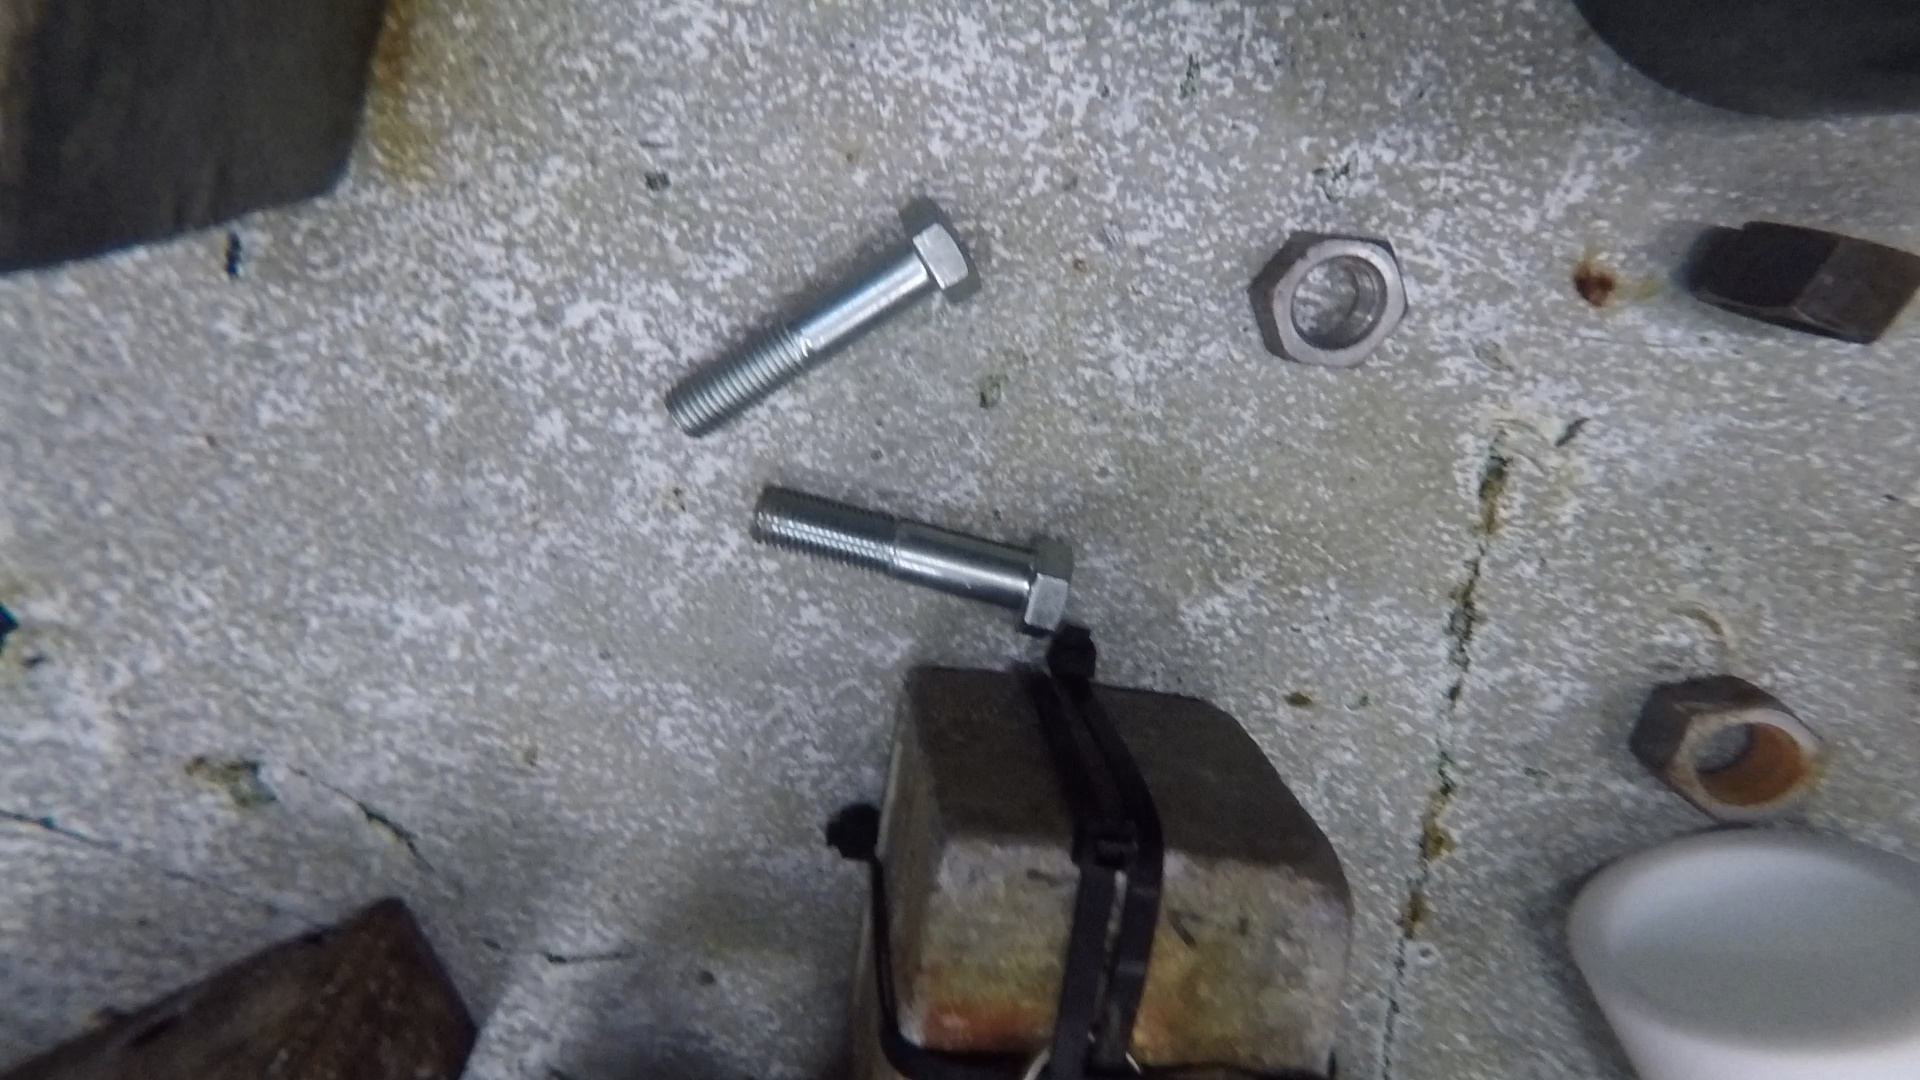bolt: (663, 198, 982, 436), (745, 484, 1075, 633)
led_block: (828, 633, 1352, 1080), (1, 7, 386, 277), (7, 895, 477, 1080)
nut: (1631, 671, 1833, 822), (1706, 216, 1919, 343), (1245, 228, 1410, 371)
pipe: (1563, 827, 1916, 1080), (1569, 1, 1919, 125)
